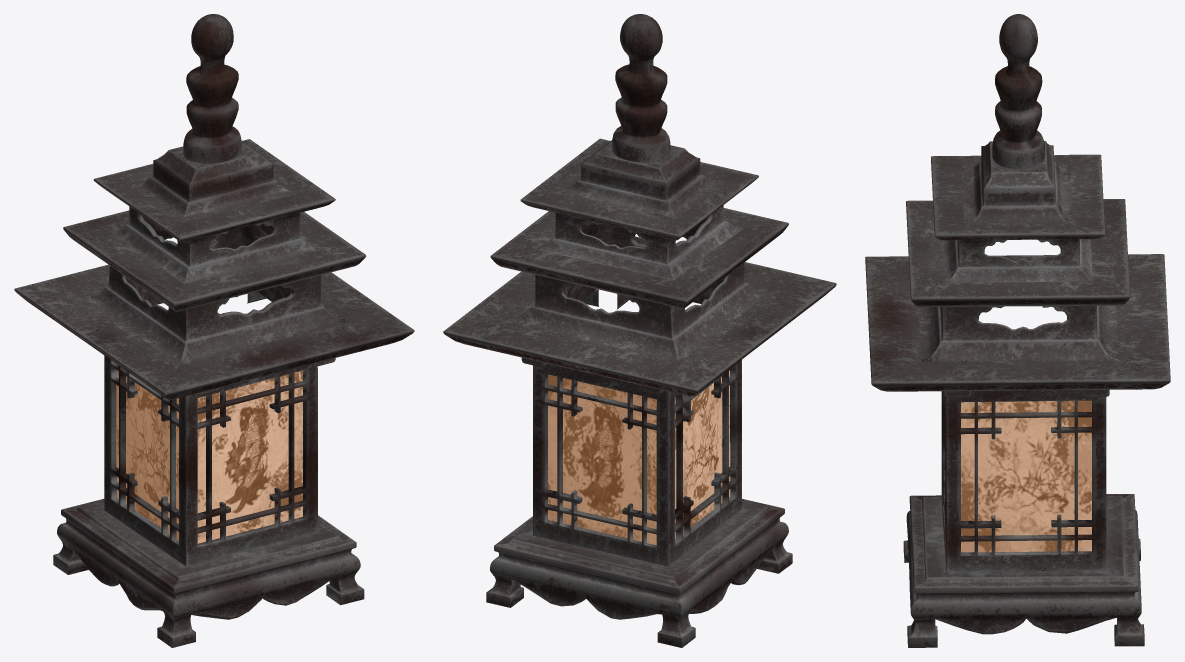
3 views of the same model, side by side, from view 1: azimuth 30°, elevation 25°; view 2: azimuth 150°, elevation 25°; view 3: azimuth 270°, elevation 25° (orthographic). The views are drawn at different scales.
Visible parts, largest first — view 1: LampTopPiece_low1; view 2: LampTopPiece_low1; view 3: LampTopPiece_low1.
Part boxes in pixels (x1=…): LampTopPiece_low1: x1=14, y1=14, x2=414, y2=647; LampTopPiece_low1: x1=443, y1=14, x2=836, y2=647; LampTopPiece_low1: x1=865, y1=14, x2=1170, y2=647.
Bounding box in the file's own units: 0.1246 × 0.2619 × 0.1245.
1 material, 1 textured.
